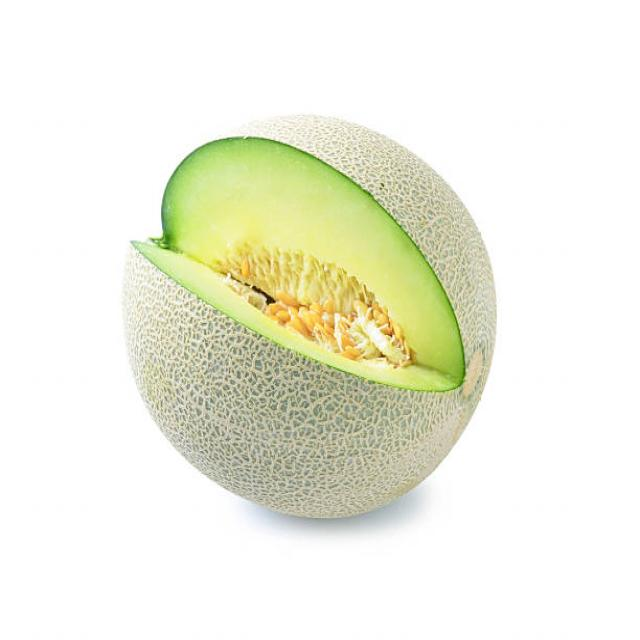Melon: (119, 109, 499, 525)
